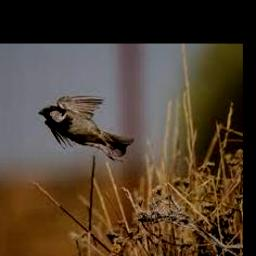Sparrow: (39, 95, 135, 162)
